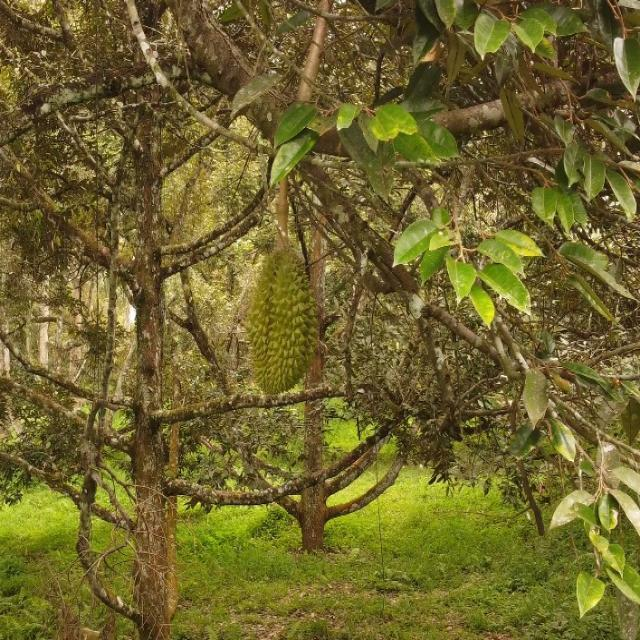immature: (248, 247, 318, 395)
